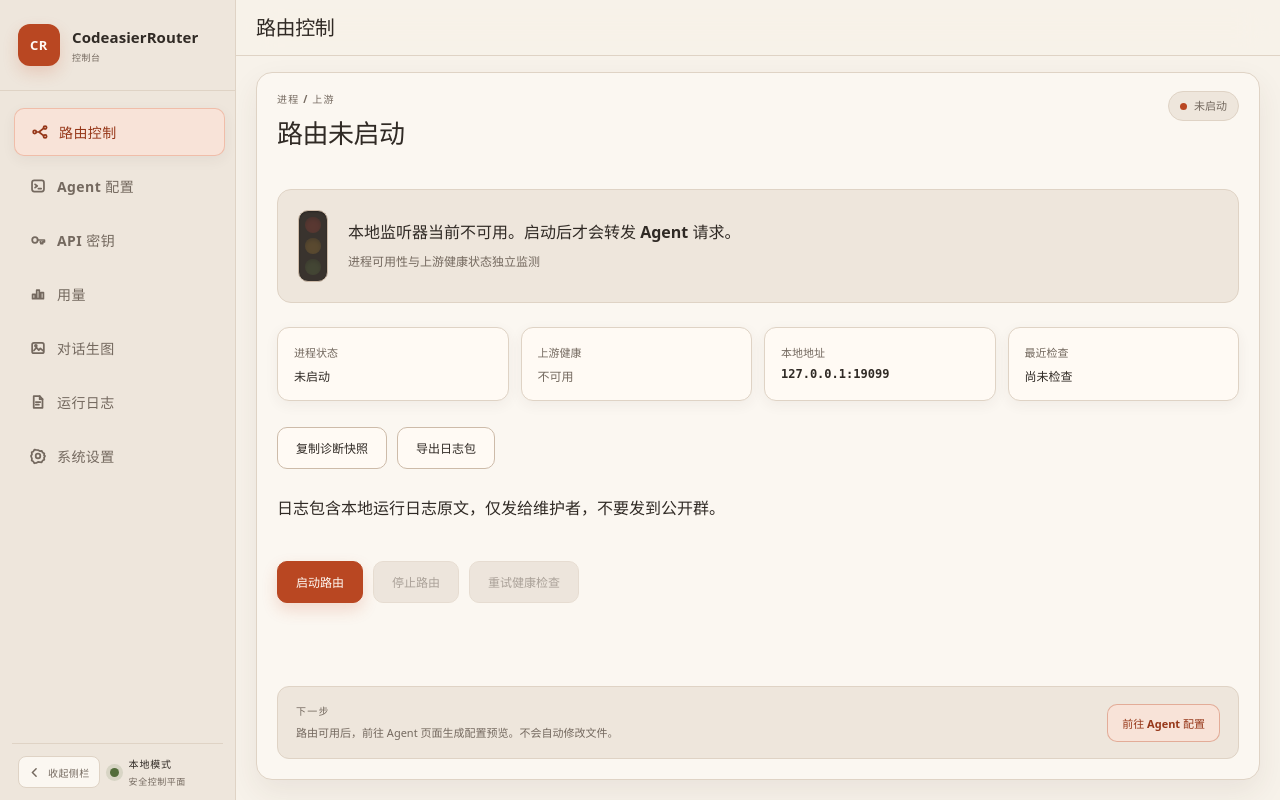
Test: SettingsPage › adds a router row only while a foreign router is being reused
This screenshot has width=1280, height=800.
Click the button "系统设置". click: click(118, 456)
box: [12,432,223,480]
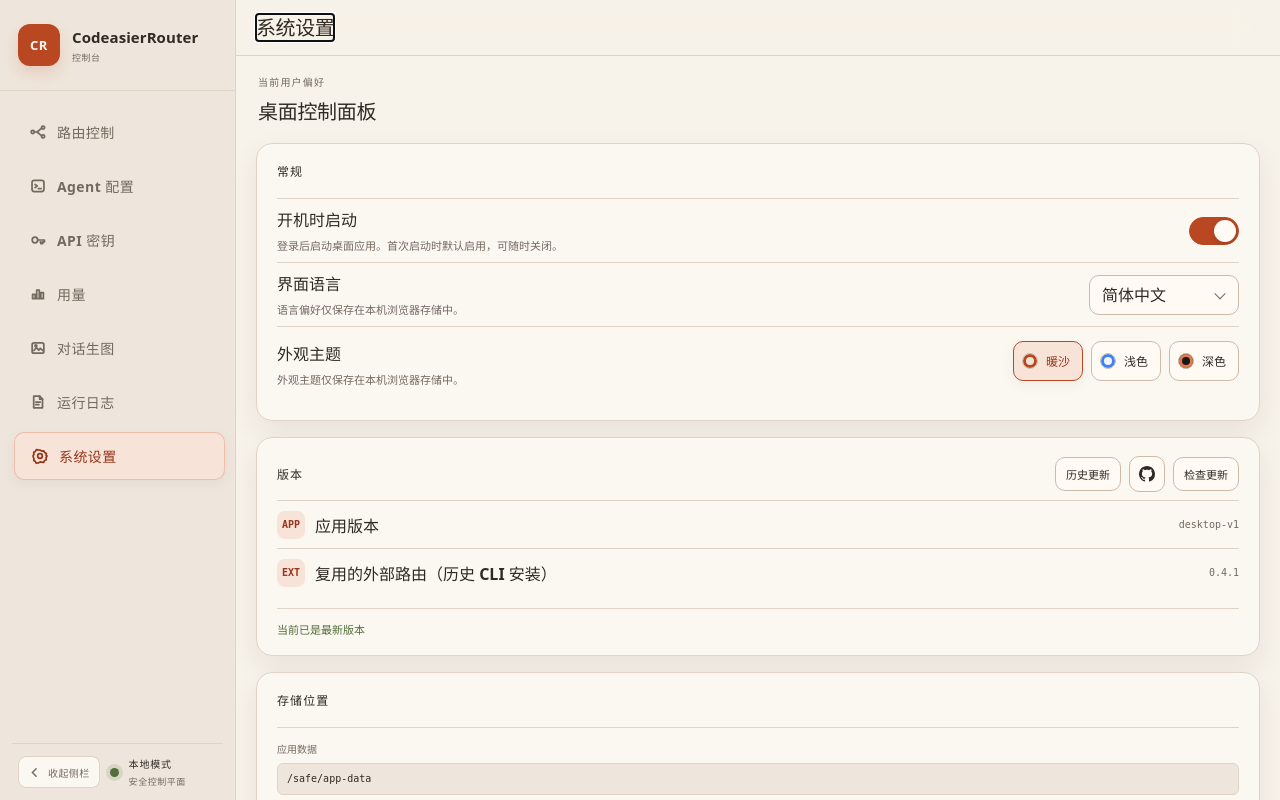
Expected: the heading "桌面控制面板" is shown, [258,98,376,125]
Expected: the number of list items is 2, [277,500,1239,548]; [277,548,1239,596]
Expected: the list item "APP 应用版本 desktop-v1" is shown, [277,500,1239,548]
